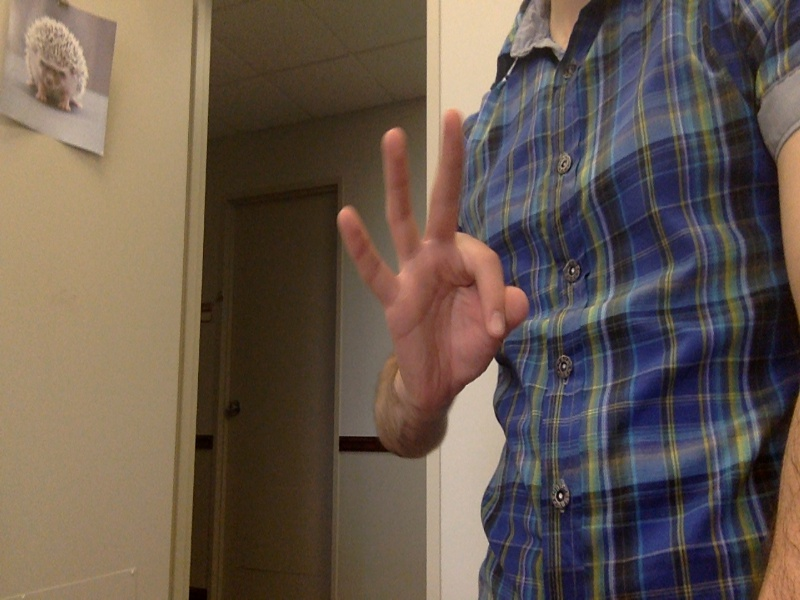3-hand: (335, 109, 530, 412)
